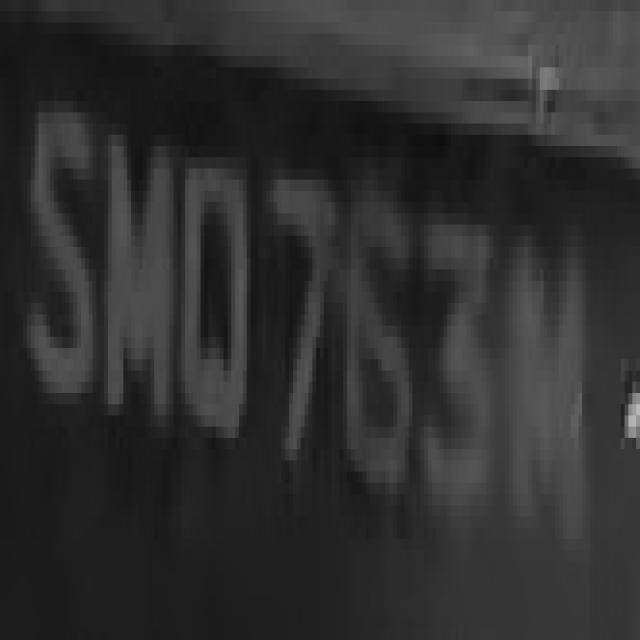3: (416, 168, 509, 584)
6: (343, 124, 420, 562)
7: (262, 123, 347, 528)
M: (505, 158, 586, 562), (104, 78, 170, 438)
Q: (166, 135, 262, 505)
S: (20, 56, 100, 460)
